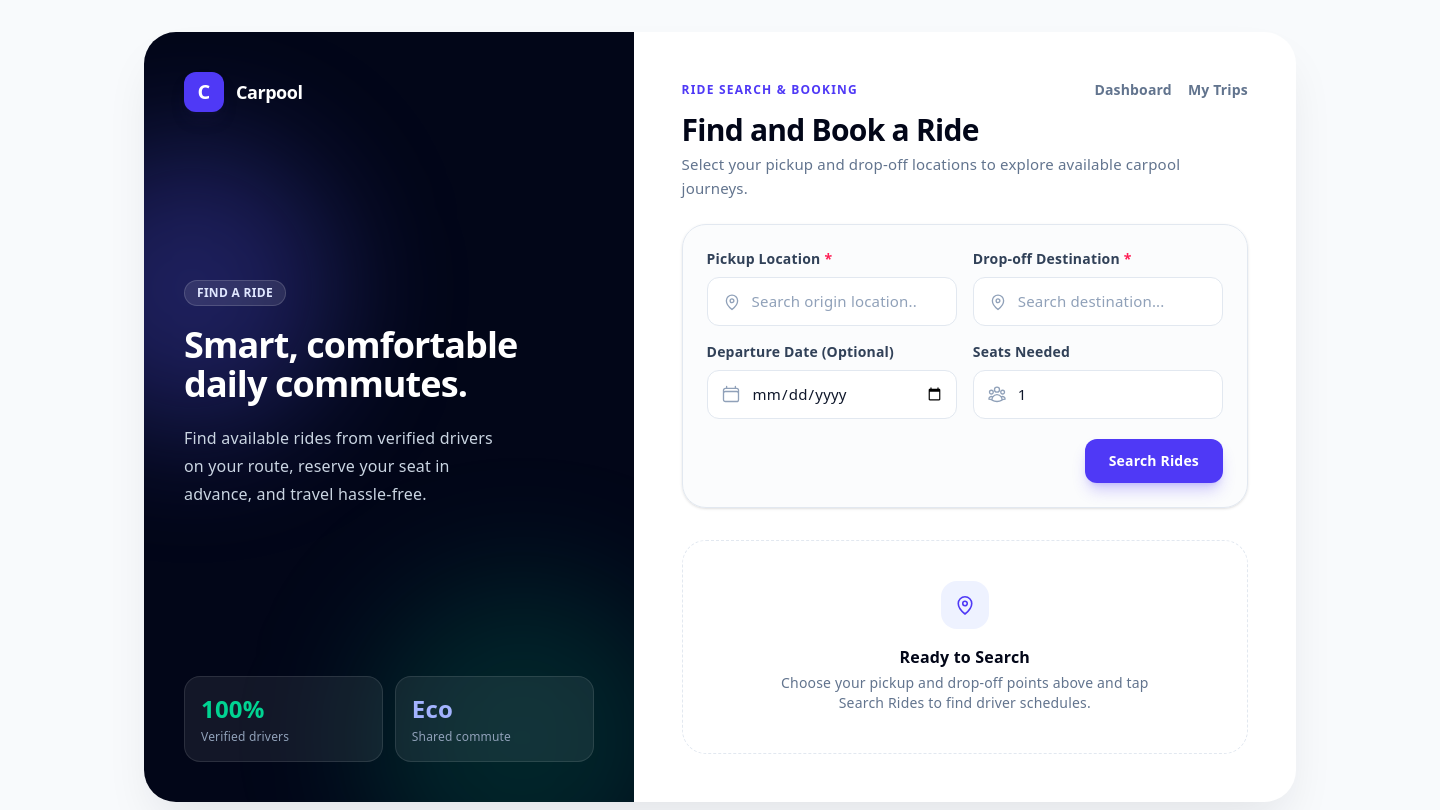
Test case: BookRidePage › validates required source and destination before searching
The image size is (1440, 810).
Click the button "Search Rides": coordinates (1154, 461) [1085,439,1223,483]
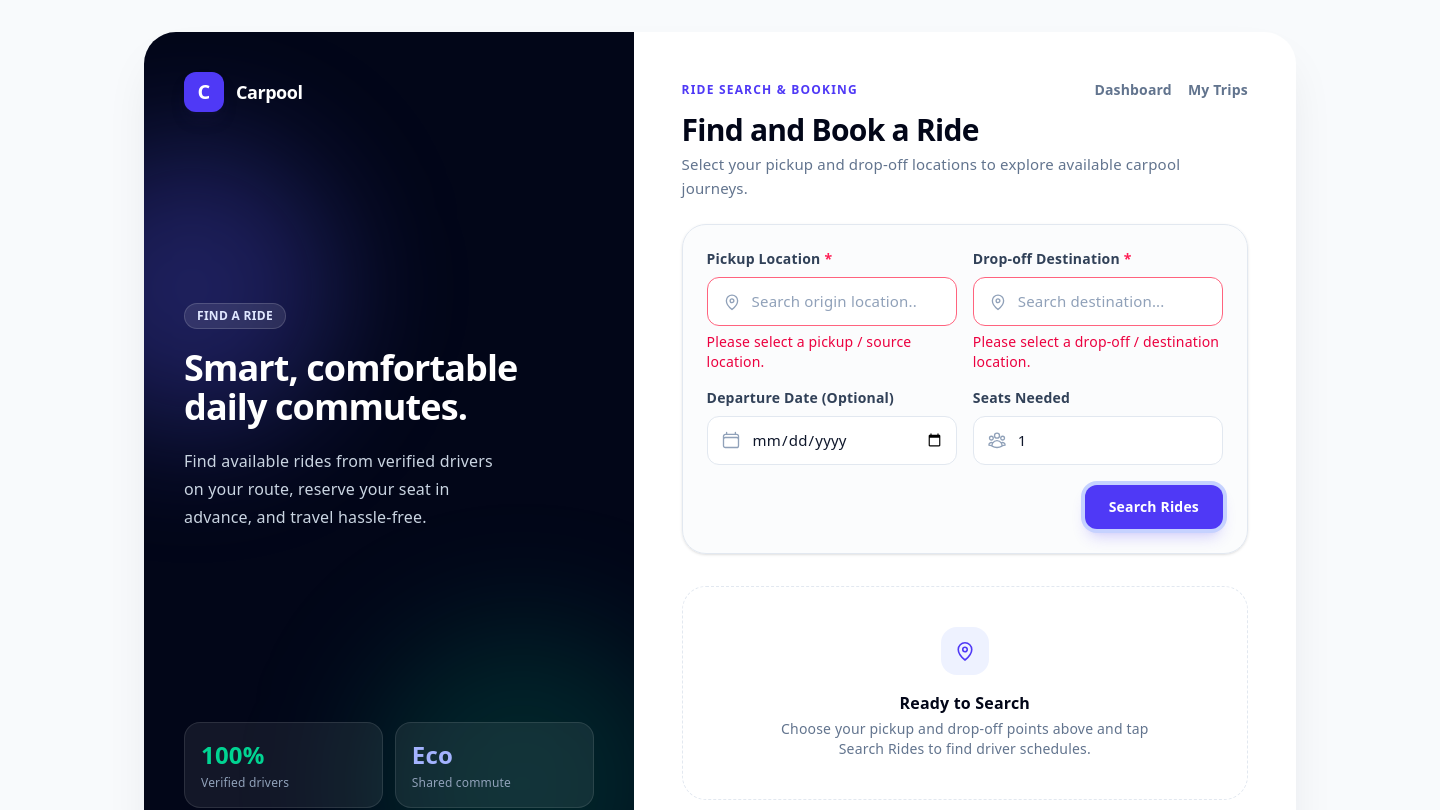
Now the text "Please select a pickup / source location." is shown, box [707,332,911,371]
Now the text "Please select a drop-off / destination location." is shown, box [973,332,1223,372]
